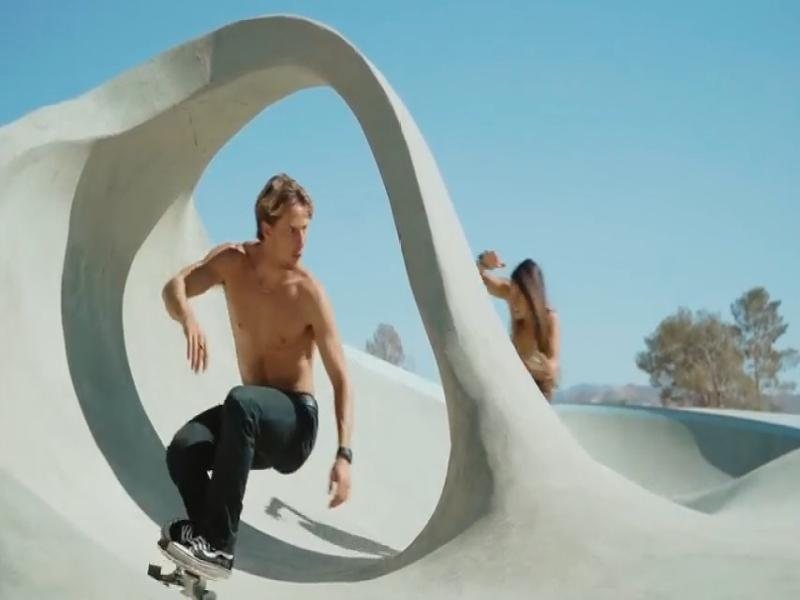person: (158, 175, 353, 580), (511, 259, 550, 355)
skate: (147, 565, 216, 599)
